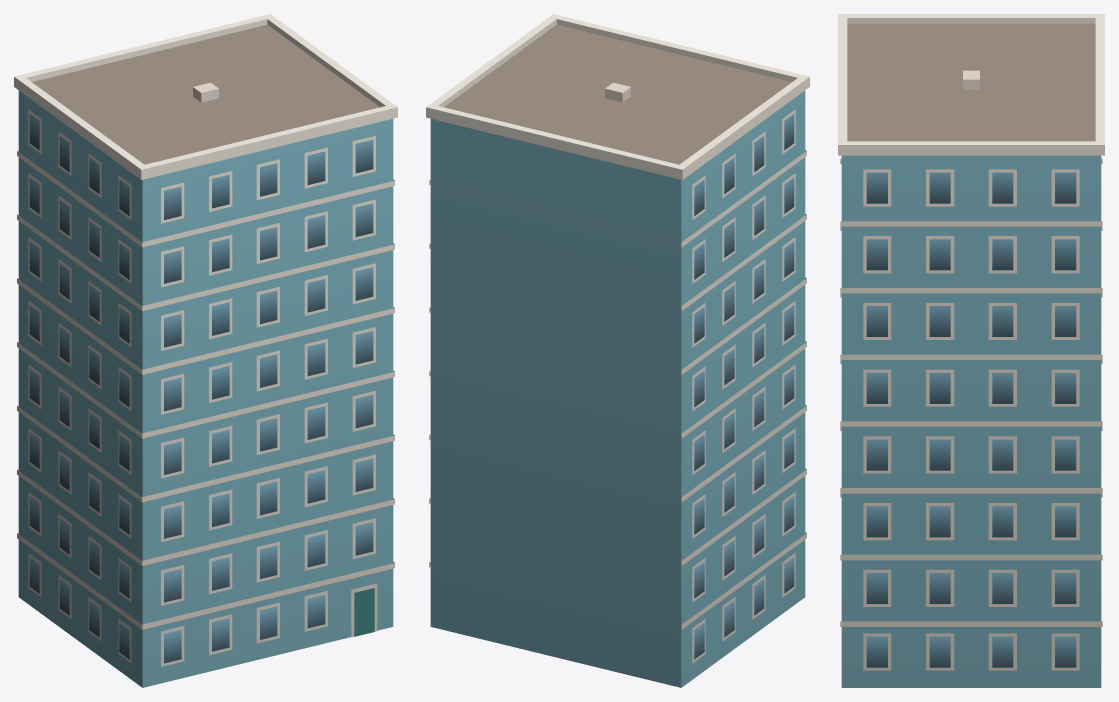
Rendered from sky3_far.glb.
3 renders of one model, left to right at view 1: azimuth 30°, elevation 25°; view 2: azimuth 150°, elevation 25°; view 3: azimuth 270°, elevation 25°, orthographic. The views are drawn at different scales.
Parts seen in each view (by area): view 1: sky3_far; view 2: sky3_far; view 3: sky3_far.
Part boxes in pixels (x1,y1,x2,y2): sky3_far: (14,14,397,687); sky3_far: (426,14,809,687); sky3_far: (838,14,1104,687).
Bounding box in the file's own units: 14.32 × 27.97 × 12.32.
1 material, 1 textured.
